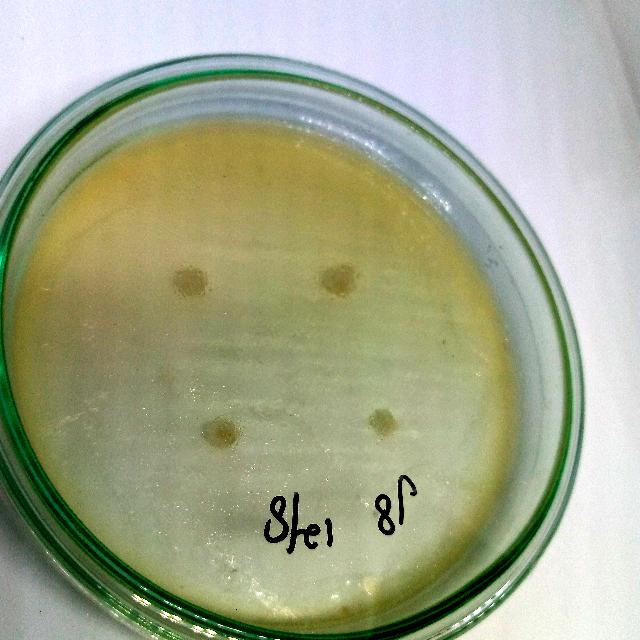colony: (166, 260, 212, 306), (200, 412, 246, 458), (317, 260, 357, 302), (362, 404, 402, 441)
